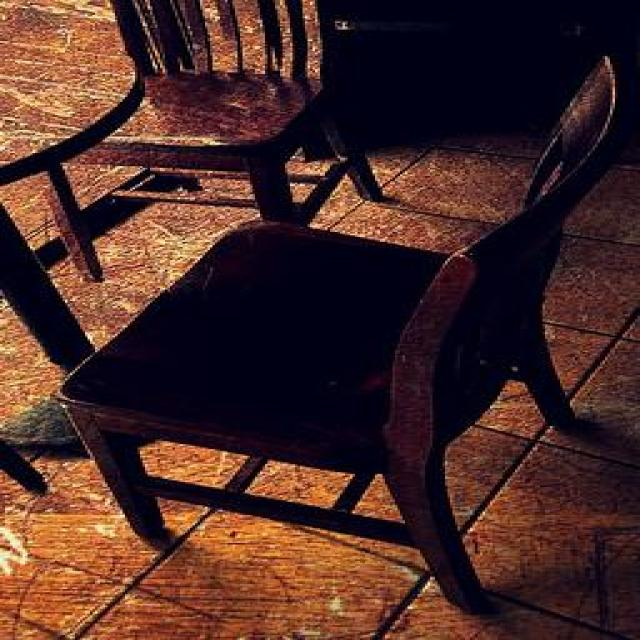chair: (54, 59, 640, 615)
